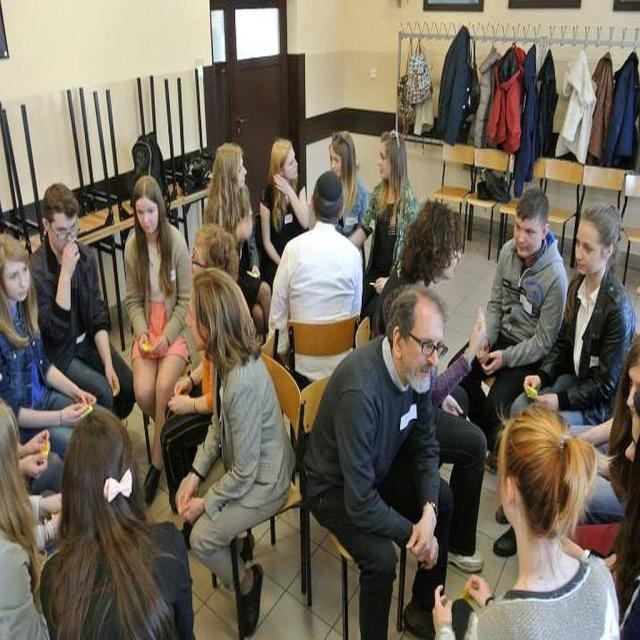body: (294, 278, 458, 639), (423, 399, 627, 639), (173, 264, 298, 639), (367, 196, 487, 574), (490, 342, 640, 639), (36, 400, 200, 639), (446, 186, 568, 476), (508, 202, 635, 428), (122, 173, 205, 512), (29, 180, 137, 422), (159, 221, 242, 517), (0, 231, 104, 462), (267, 169, 364, 383), (346, 127, 422, 331), (203, 140, 273, 347), (0, 396, 51, 640), (258, 137, 311, 298), (10, 420, 94, 494), (328, 128, 369, 238)
